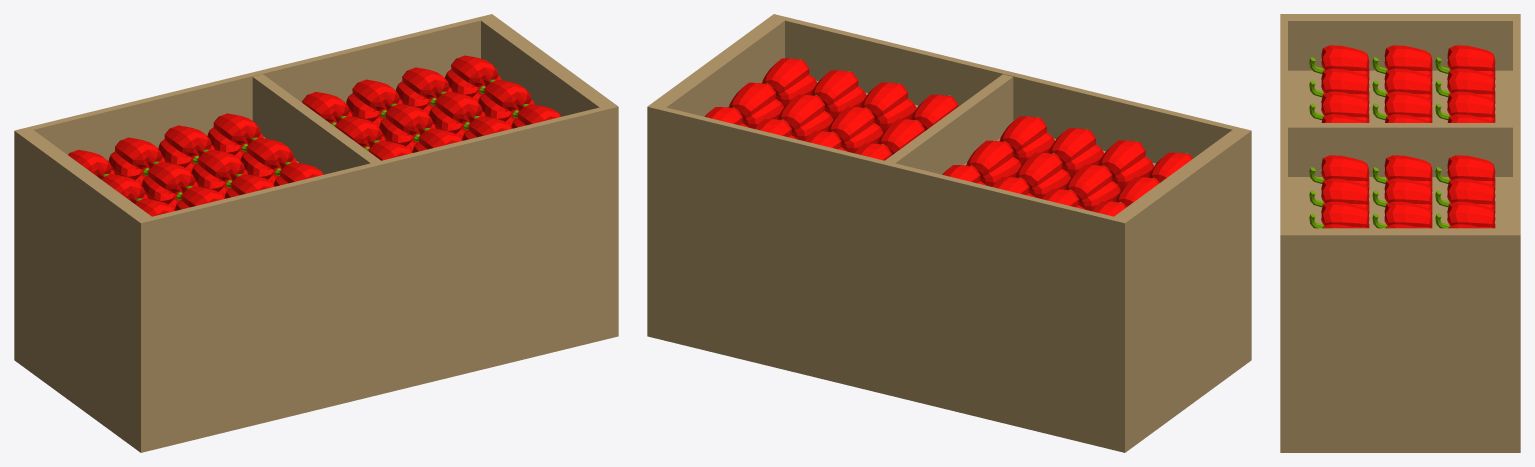
File: red_pepper_box.gltf
3 views of the same model, side by side, from view 1: azimuth 30°, elevation 25°; view 2: azimuth 150°, elevation 25°; view 3: azimuth 270°, elevation 25° (orthographic). The views are drawn at different scales.
Visible parts, largest first — view 1: Cube; view 2: Cube; view 3: Cube.
Boxes of the visible parts, bbox=[...] form: Cube: bbox=[14, 14, 618, 452]; Cube: bbox=[647, 14, 1251, 452]; Cube: bbox=[1280, 14, 1520, 452].
Bounding box in the file's own units: 9.22 × 4.23 × 4.23.
